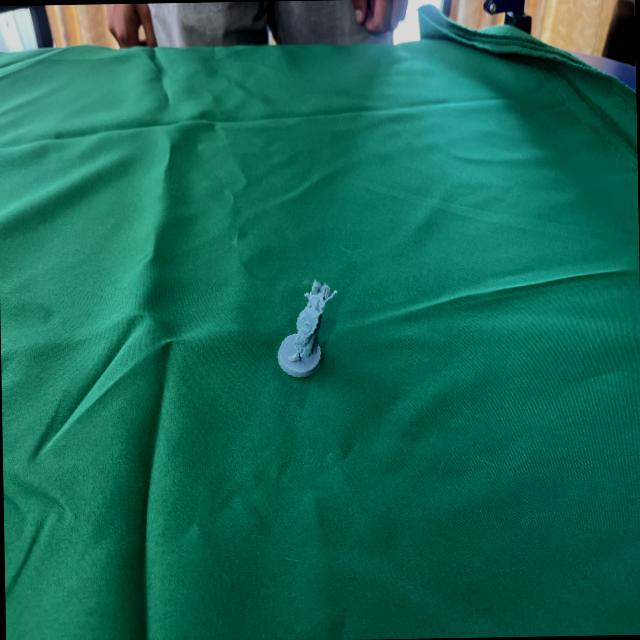isis_follower: (272, 277, 340, 387)
